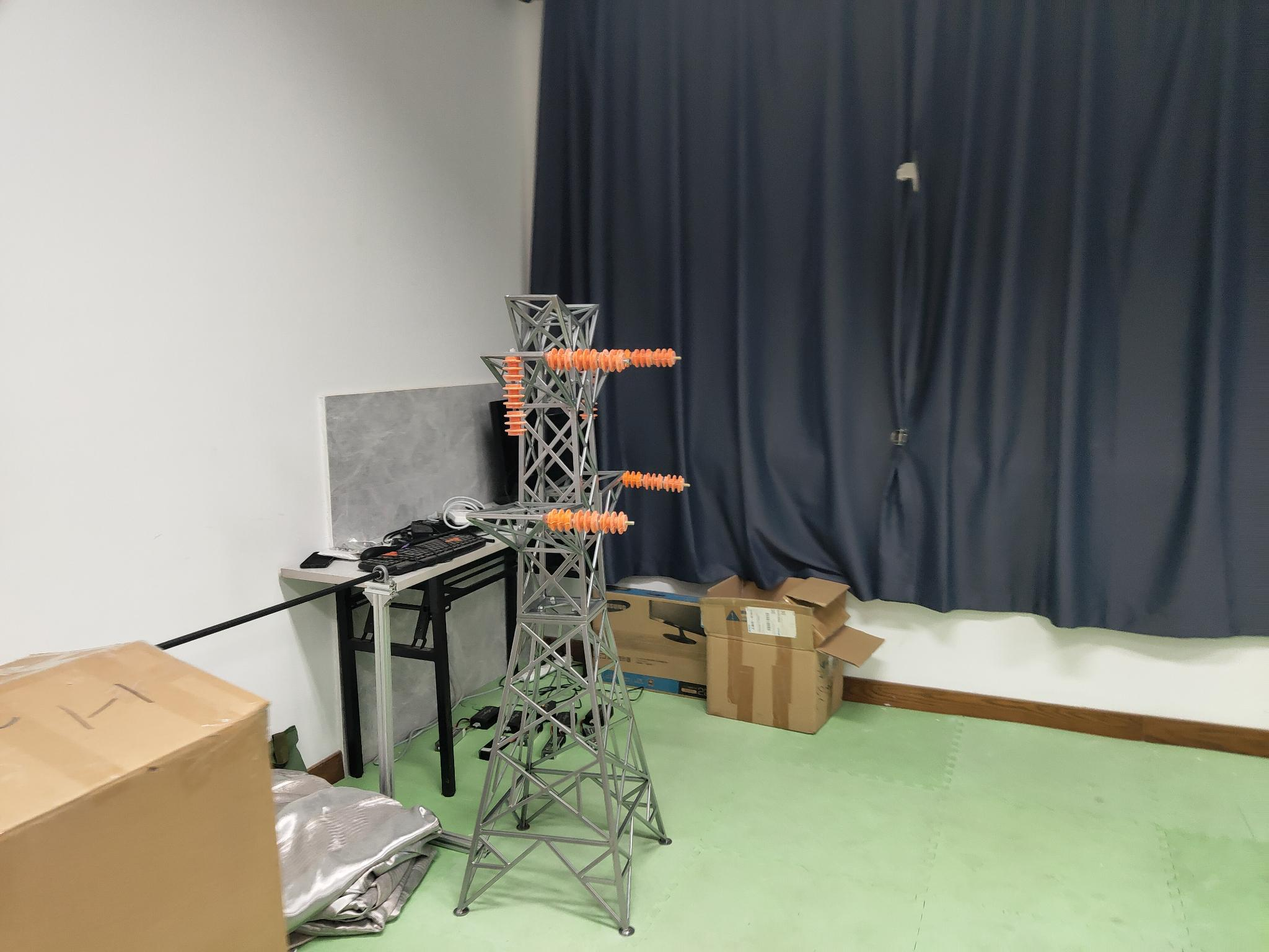tower: (466, 292, 671, 930)
